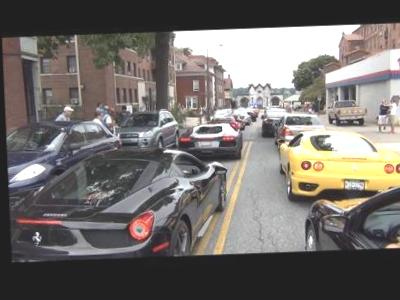License_Plate: (343, 178, 365, 191)
